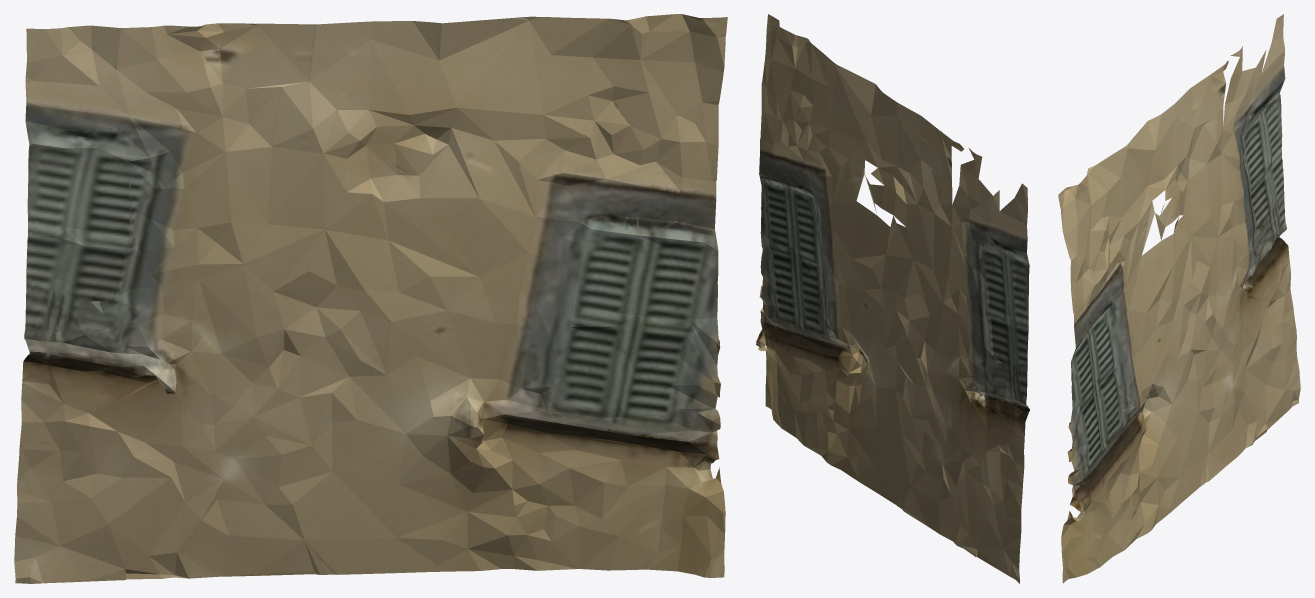
3 views of the same model, side by side, from view 1: azimuth 30°, elevation 25°; view 2: azimuth 150°, elevation 25°; view 3: azimuth 270°, elevation 25° (orthographic). The views are drawn at different scales.
Size of the model in its own units: 3.35 by 3.35 by 1.89.
3 materials, 3 textured.
